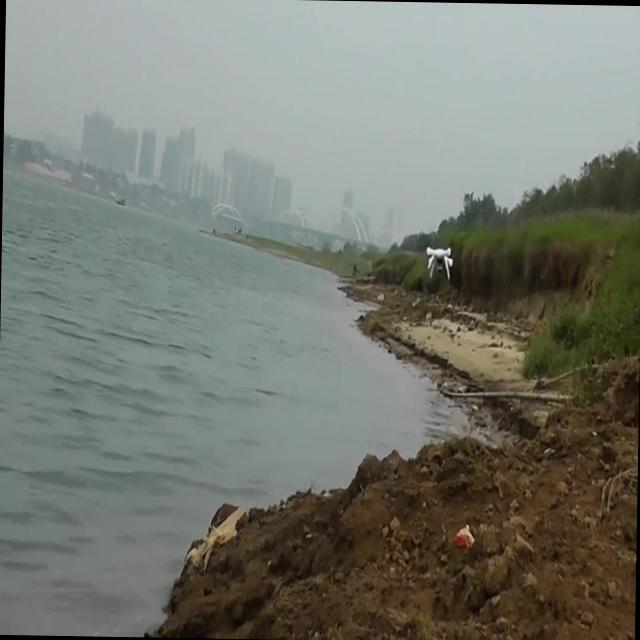drone: (422, 241, 457, 284)
